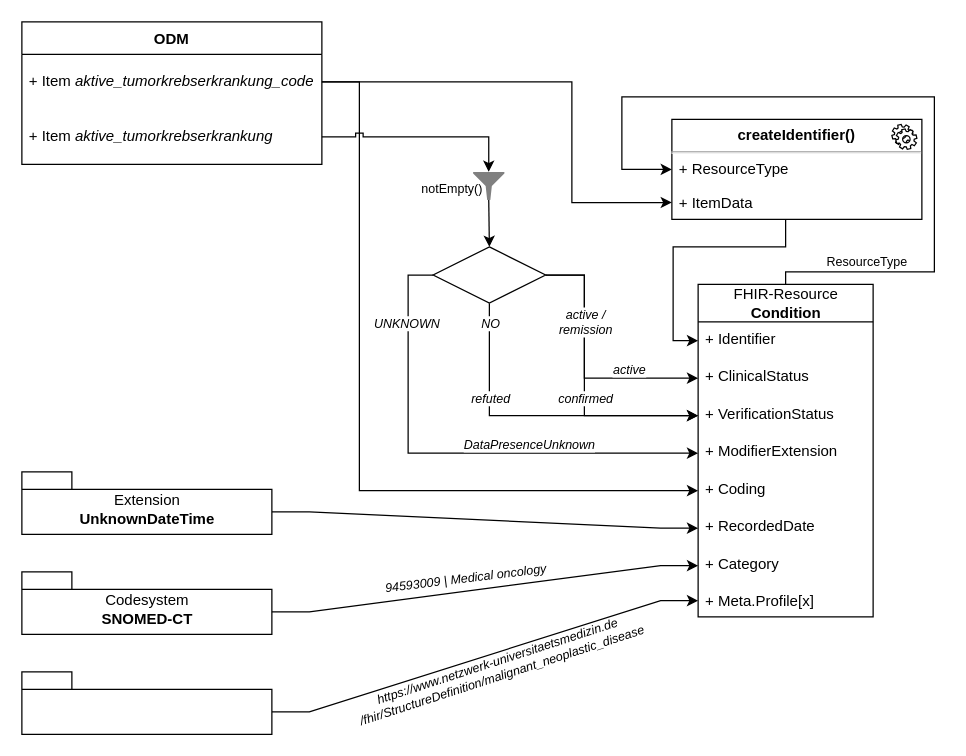
This 966x756 diagram has some shape labels left out. The centre of each missing label's shape, as x and y in pixels:
"GECCO Profiles" belongs at point 146,702.
"getCode()" belongs at point 489,274.
